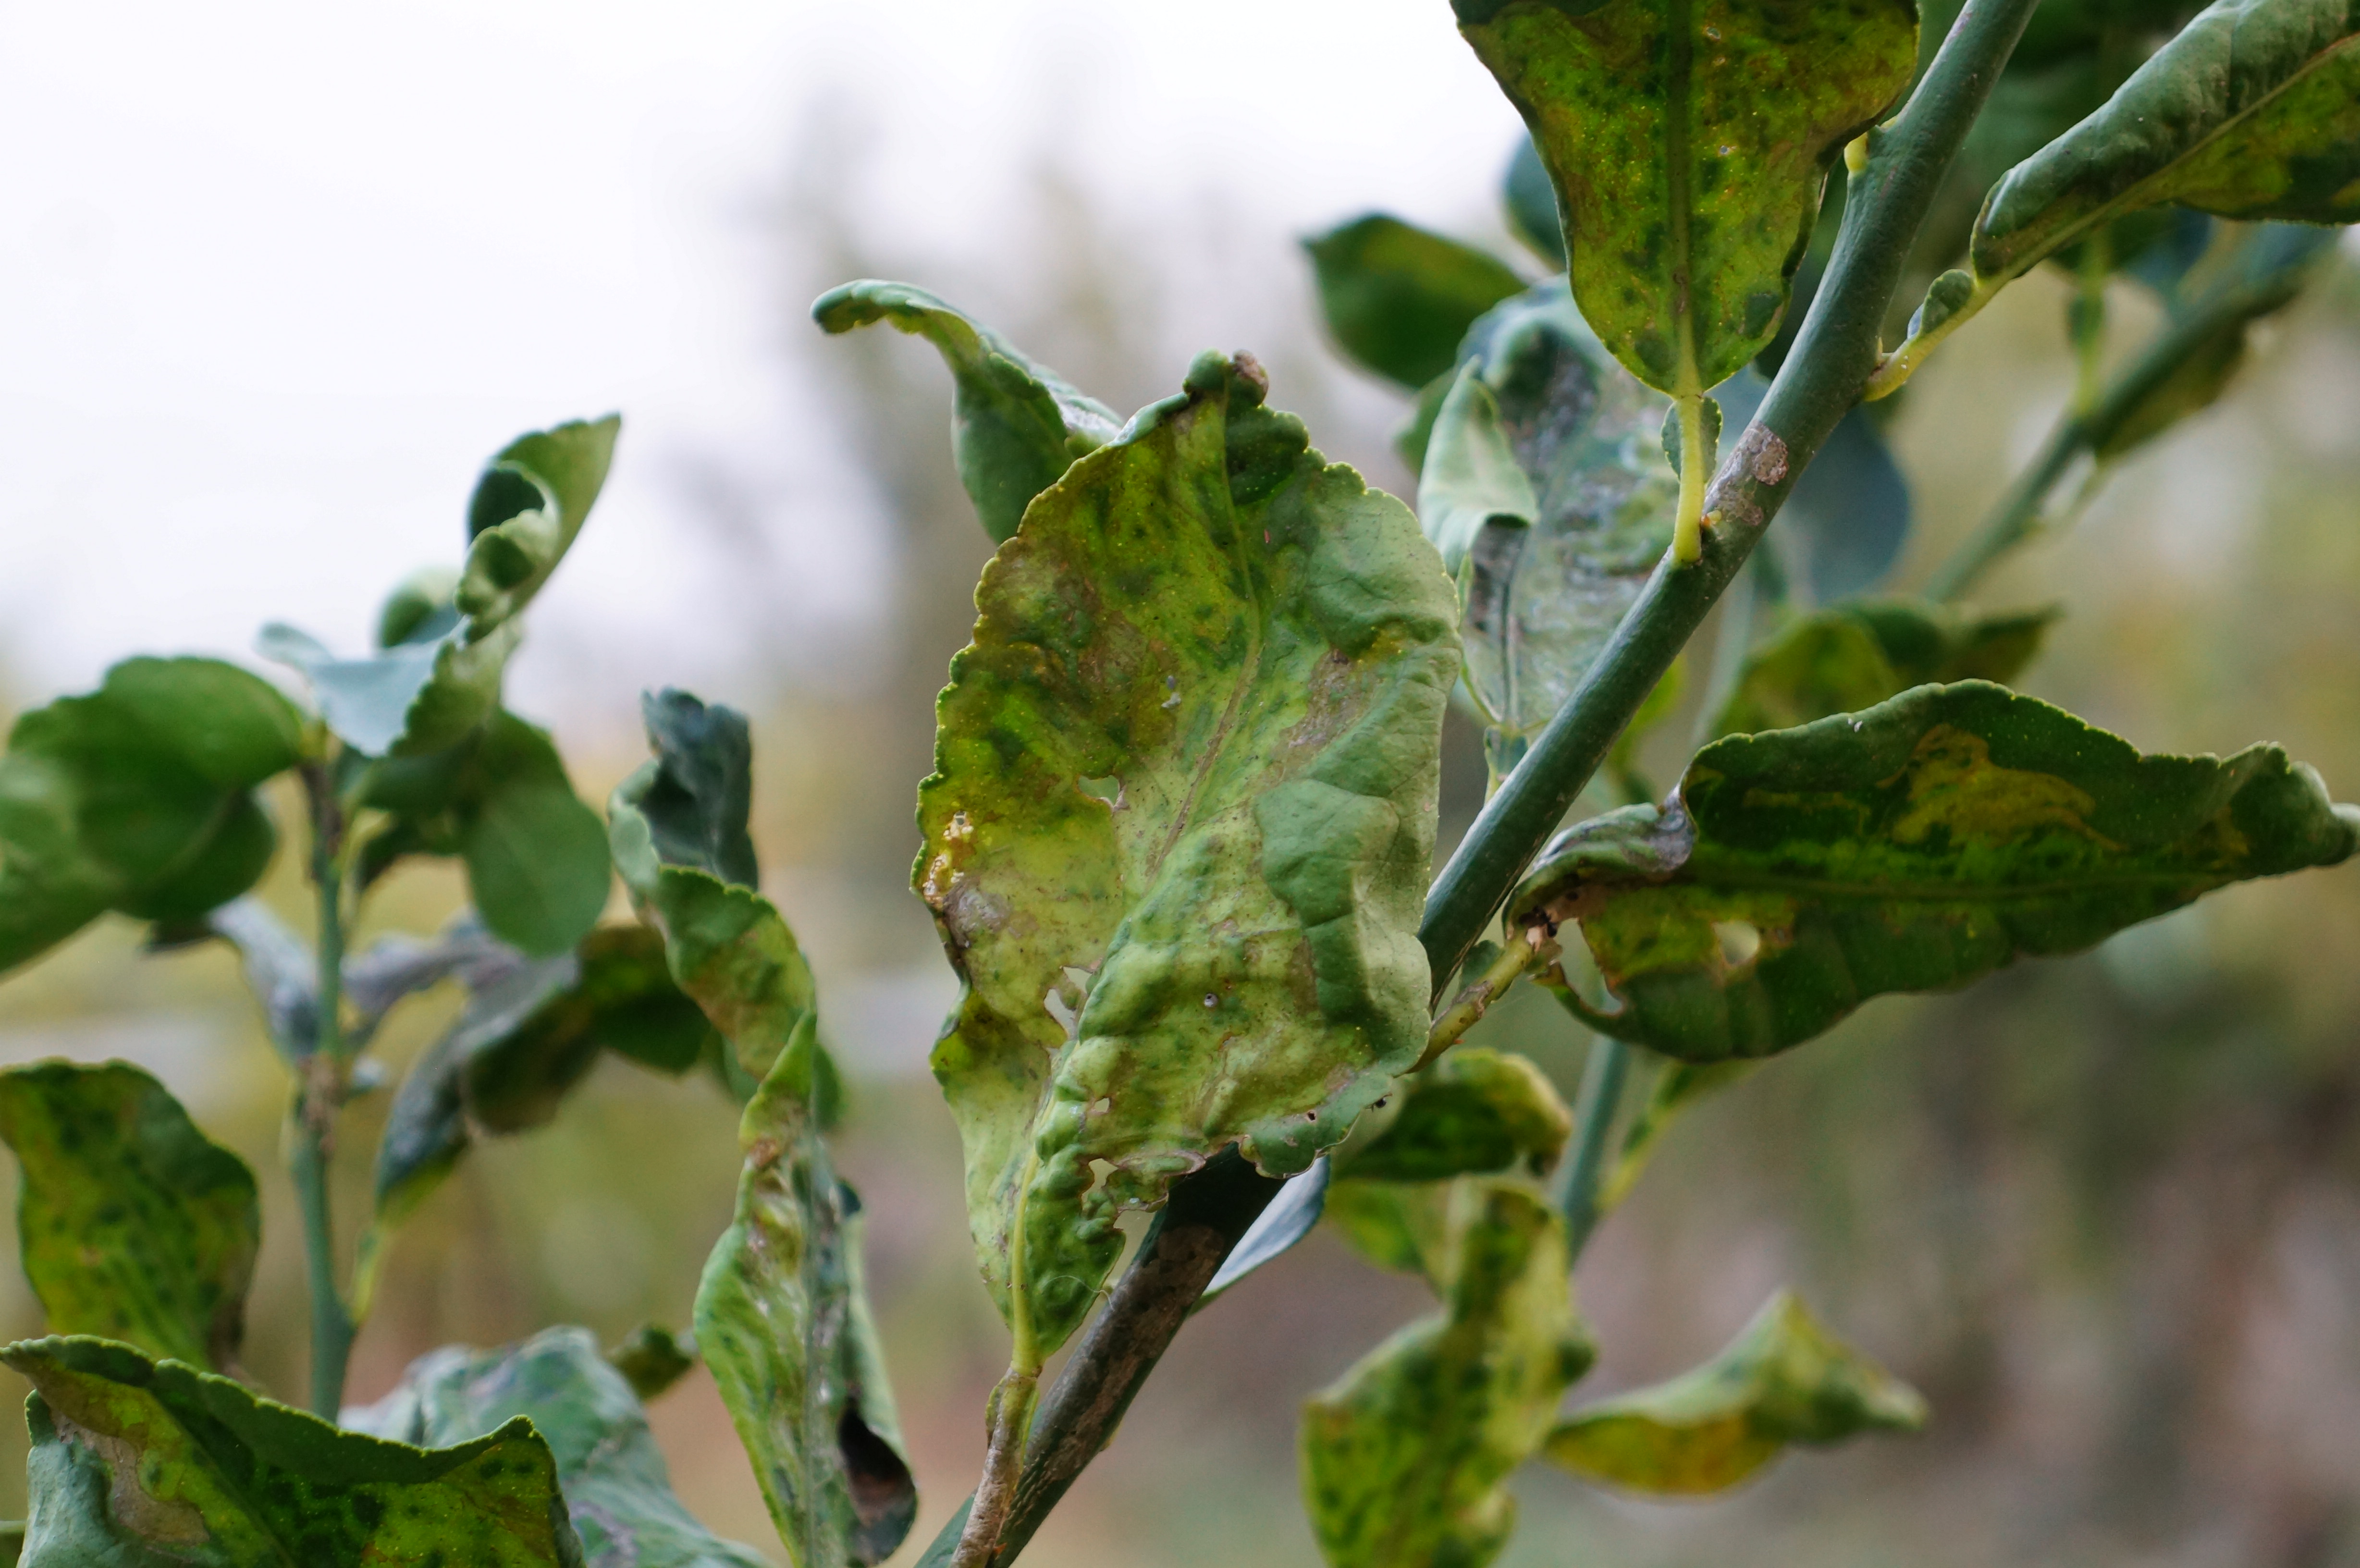curly: (1963, 0, 2358, 336)
damage: (904, 352, 1464, 1363), (1506, 670, 2360, 1081), (1435, 0, 1942, 415), (0, 1323, 597, 1568)
